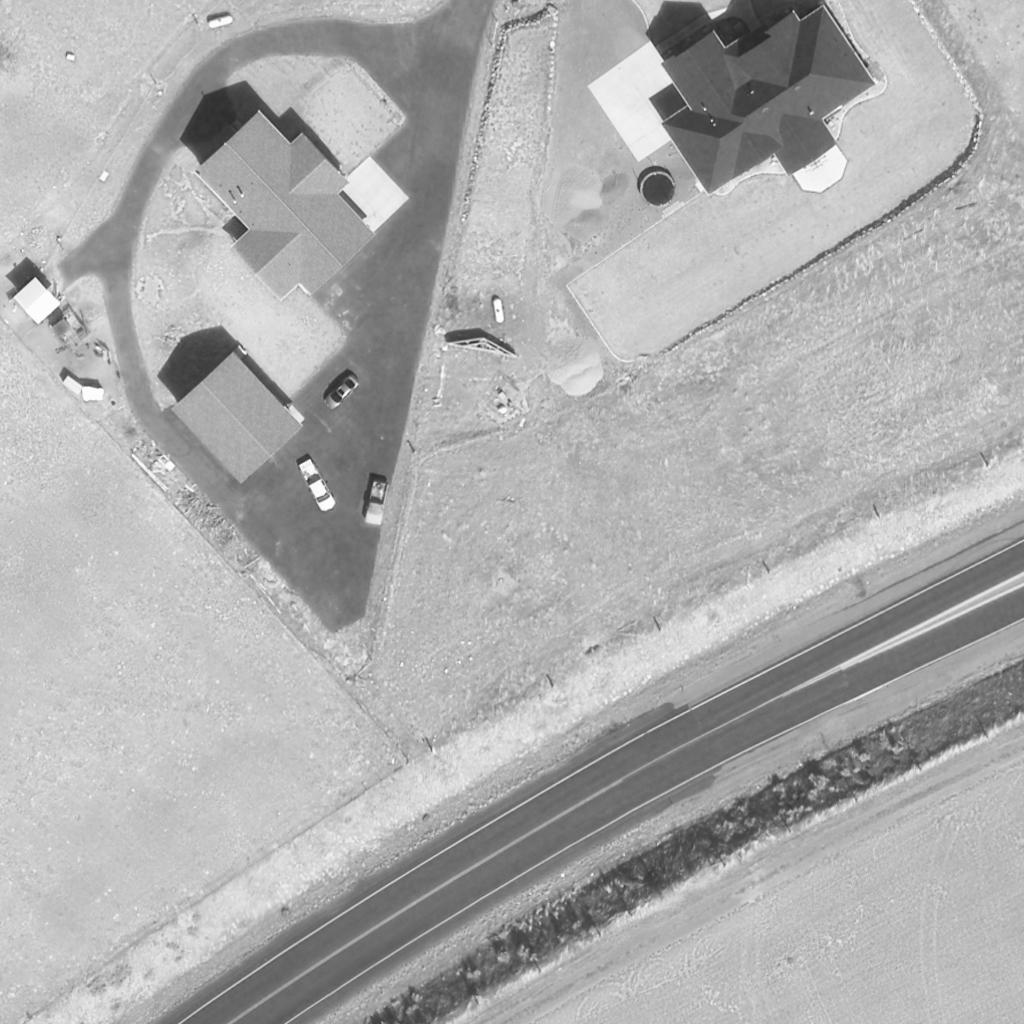vehicle: (296, 458, 336, 512), (321, 374, 361, 412), (365, 481, 391, 527)
